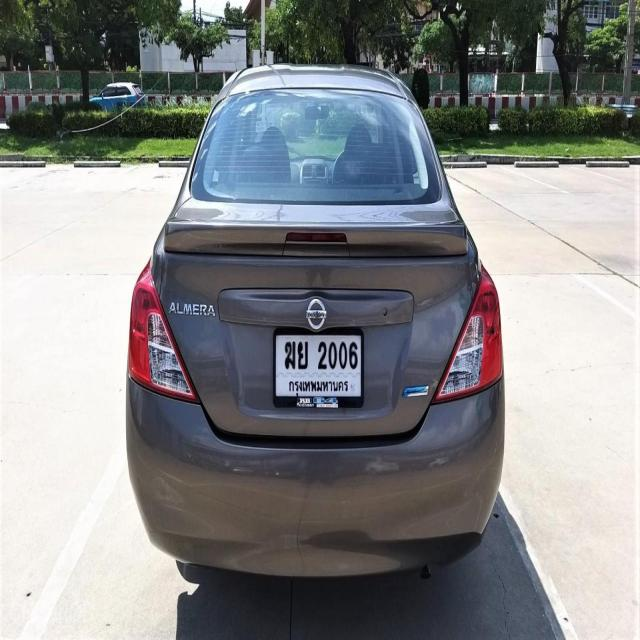license_plate: (271, 324, 367, 416)
